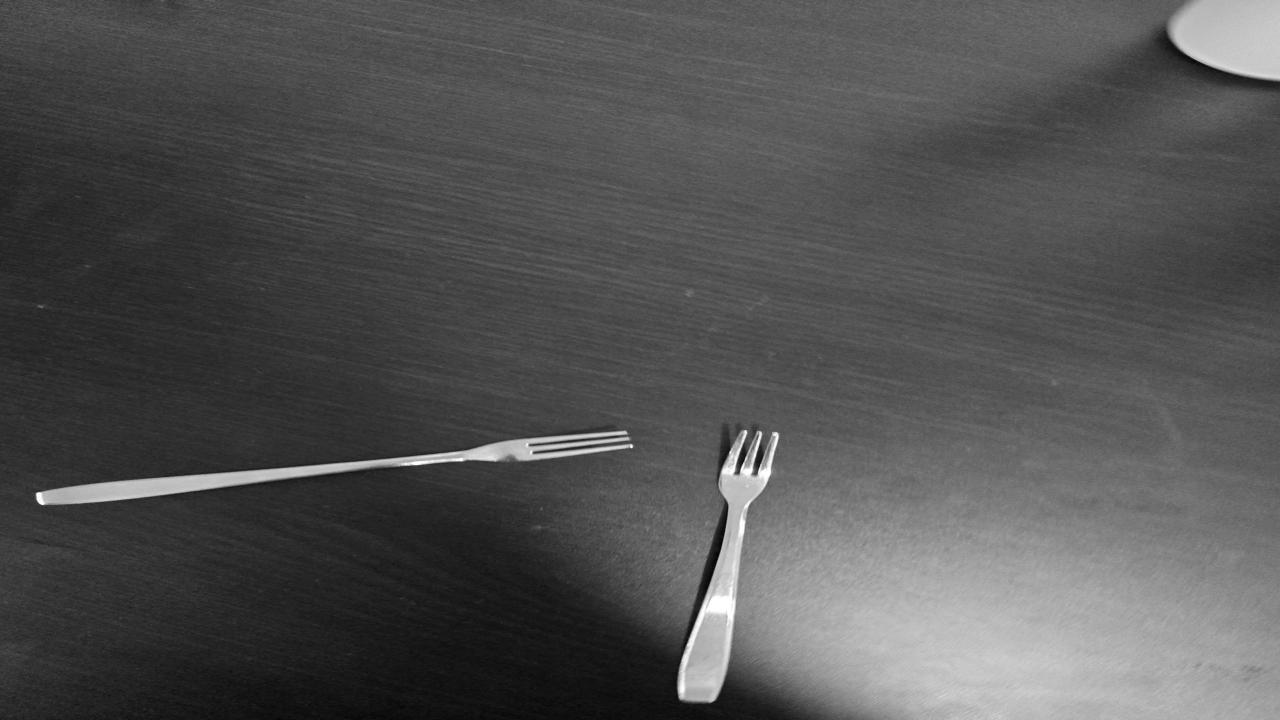fork: (24, 429, 636, 508), (669, 421, 786, 707)
